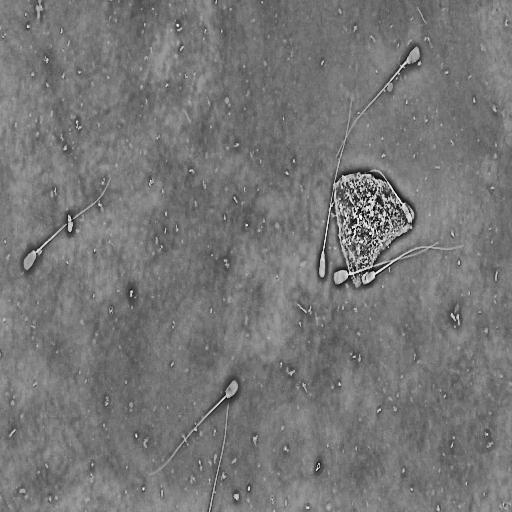dirt-particles: (332, 168, 415, 291), (66, 211, 74, 238)
loose-tail: (207, 381, 233, 512)
normal: (333, 42, 422, 163), (148, 375, 241, 477), (21, 174, 114, 275), (318, 90, 356, 281), (332, 237, 444, 287), (360, 242, 466, 287)
